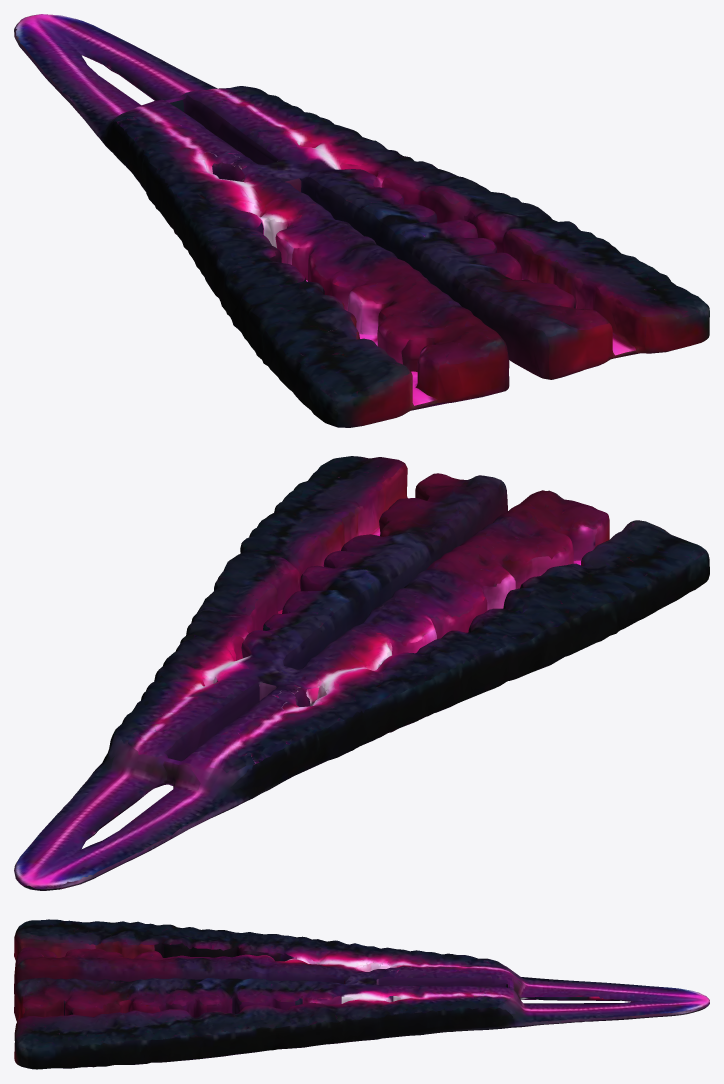
File: yggdrasil-bifrost-ribbon-merged-2026-04-25t02-17-02-006z-generated-2026-05-17T21-26-55-097Z.low.glb
3 renders of one model, top to bottom at view 1: azimuth 30°, elevation 25°; view 2: azimuth 150°, elevation 25°; view 3: azimuth 270°, elevation 25°, orthographic. The views are drawn at different scales.
Visible parts, largest first — view 1: temp_mesh.ply; view 2: temp_mesh.ply; view 3: temp_mesh.ply.
Boxes of the visible parts, <box> form: temp_mesh.ply: <box>14,14,709,427</box>; temp_mesh.ply: <box>14,456,709,890</box>; temp_mesh.ply: <box>14,919,709,1069</box>.
Size of the model in its own units: 0.8794 by 0.1132 by 1.97.
Materials: 1 (1 with a texture image).
